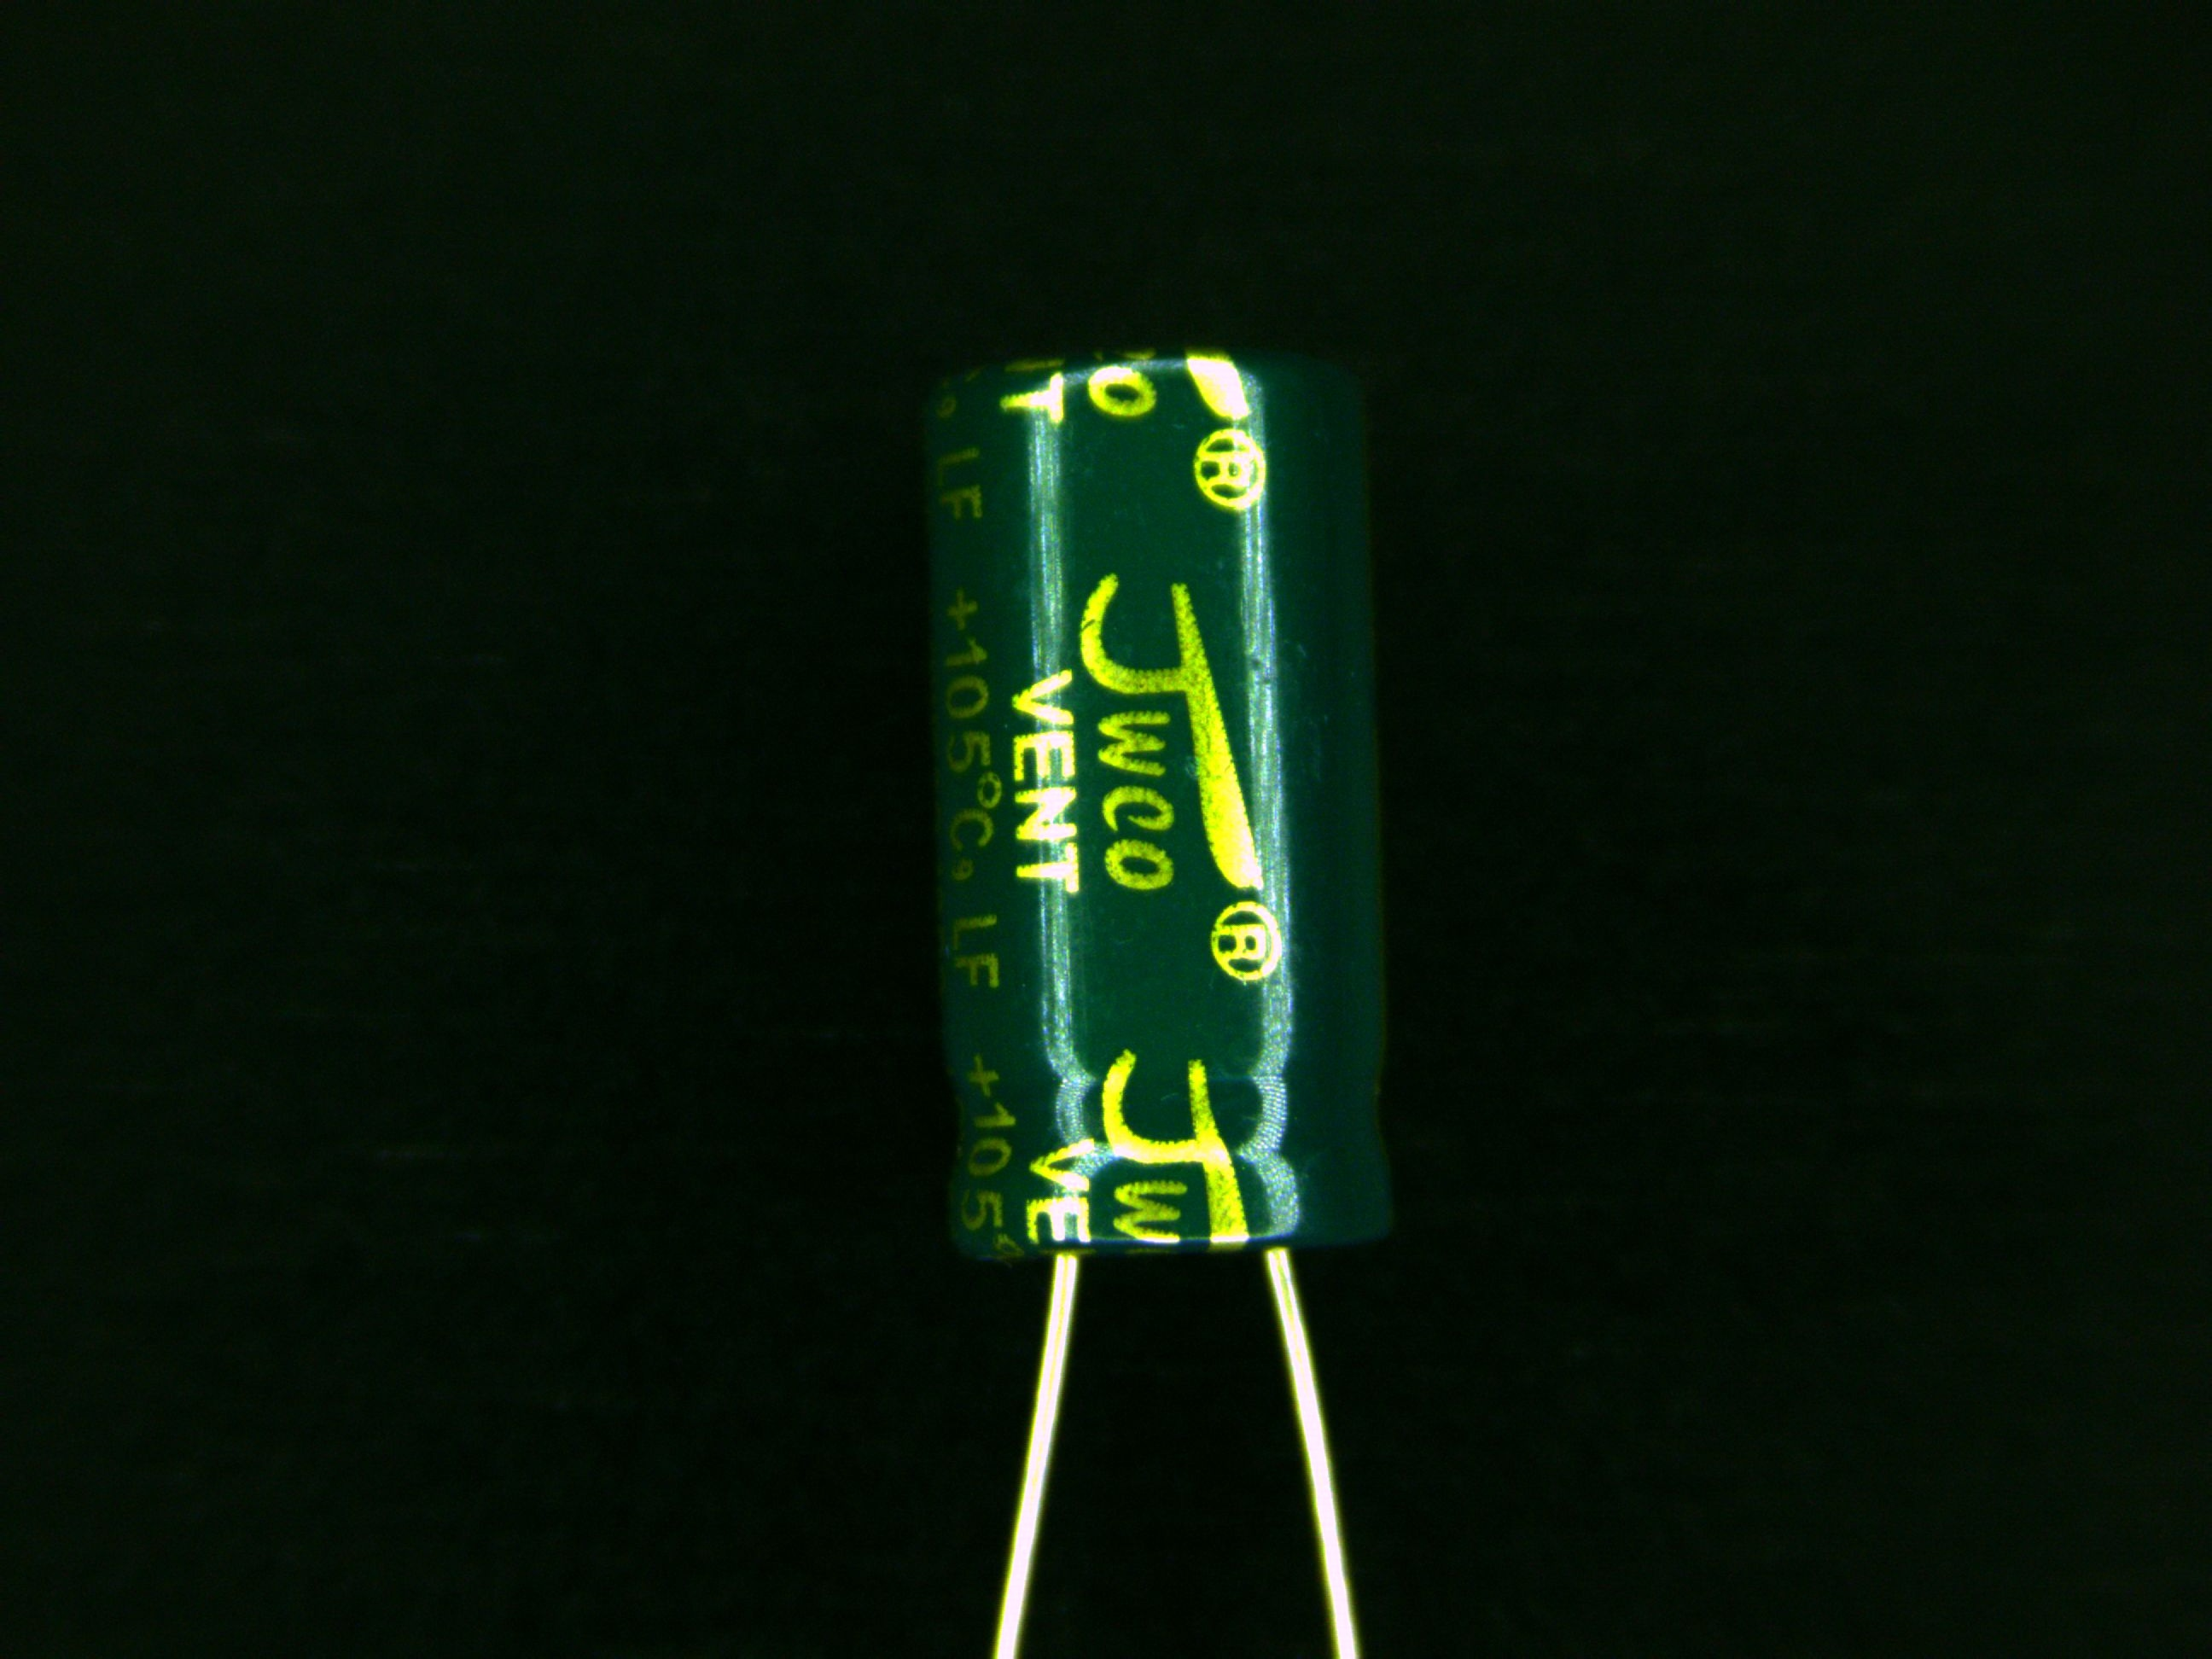c1: (916, 343, 1404, 1370)
